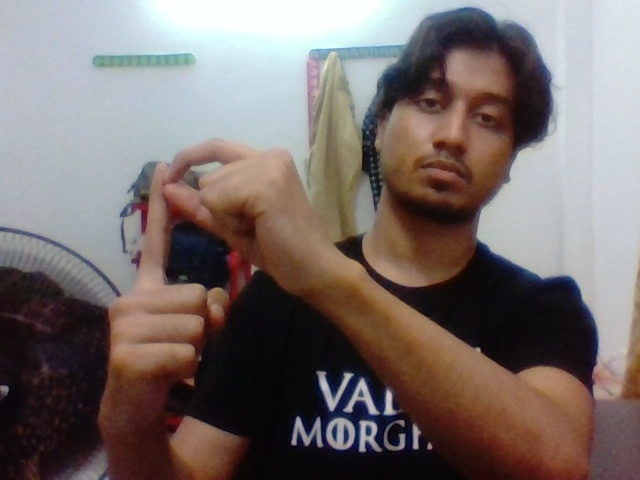P: (103, 113, 289, 375)
